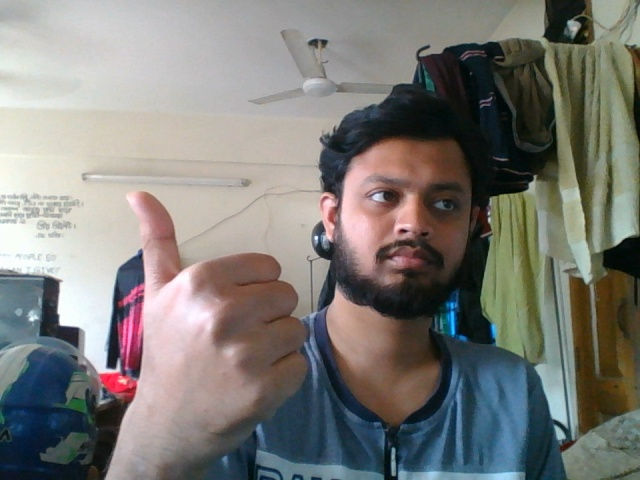do: (107, 186, 311, 459)
